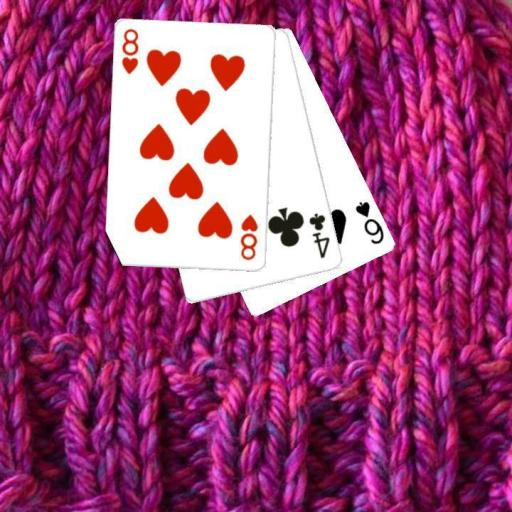card-corner: (352, 198, 386, 246), (306, 210, 332, 260), (238, 211, 260, 262), (119, 26, 141, 76)
